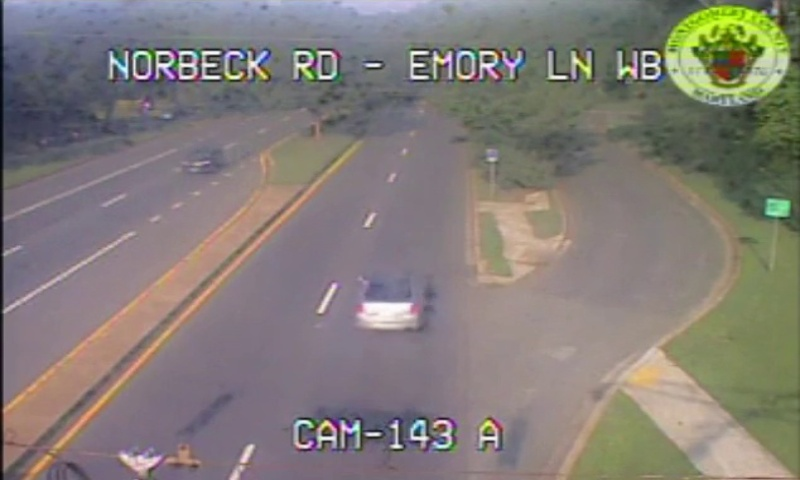car: (354, 275, 422, 330)
